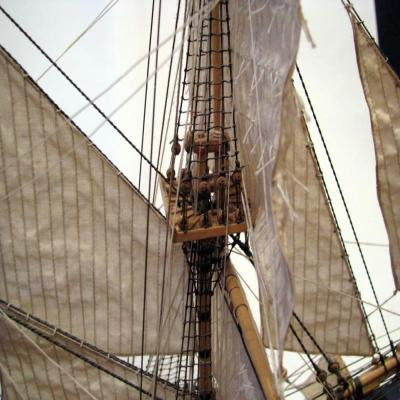other: (0, 0, 400, 400), (344, 0, 400, 296)
